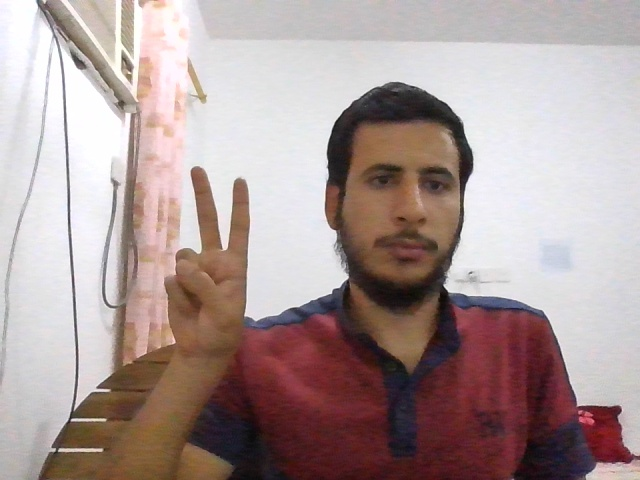Two: (163, 166, 250, 356)
